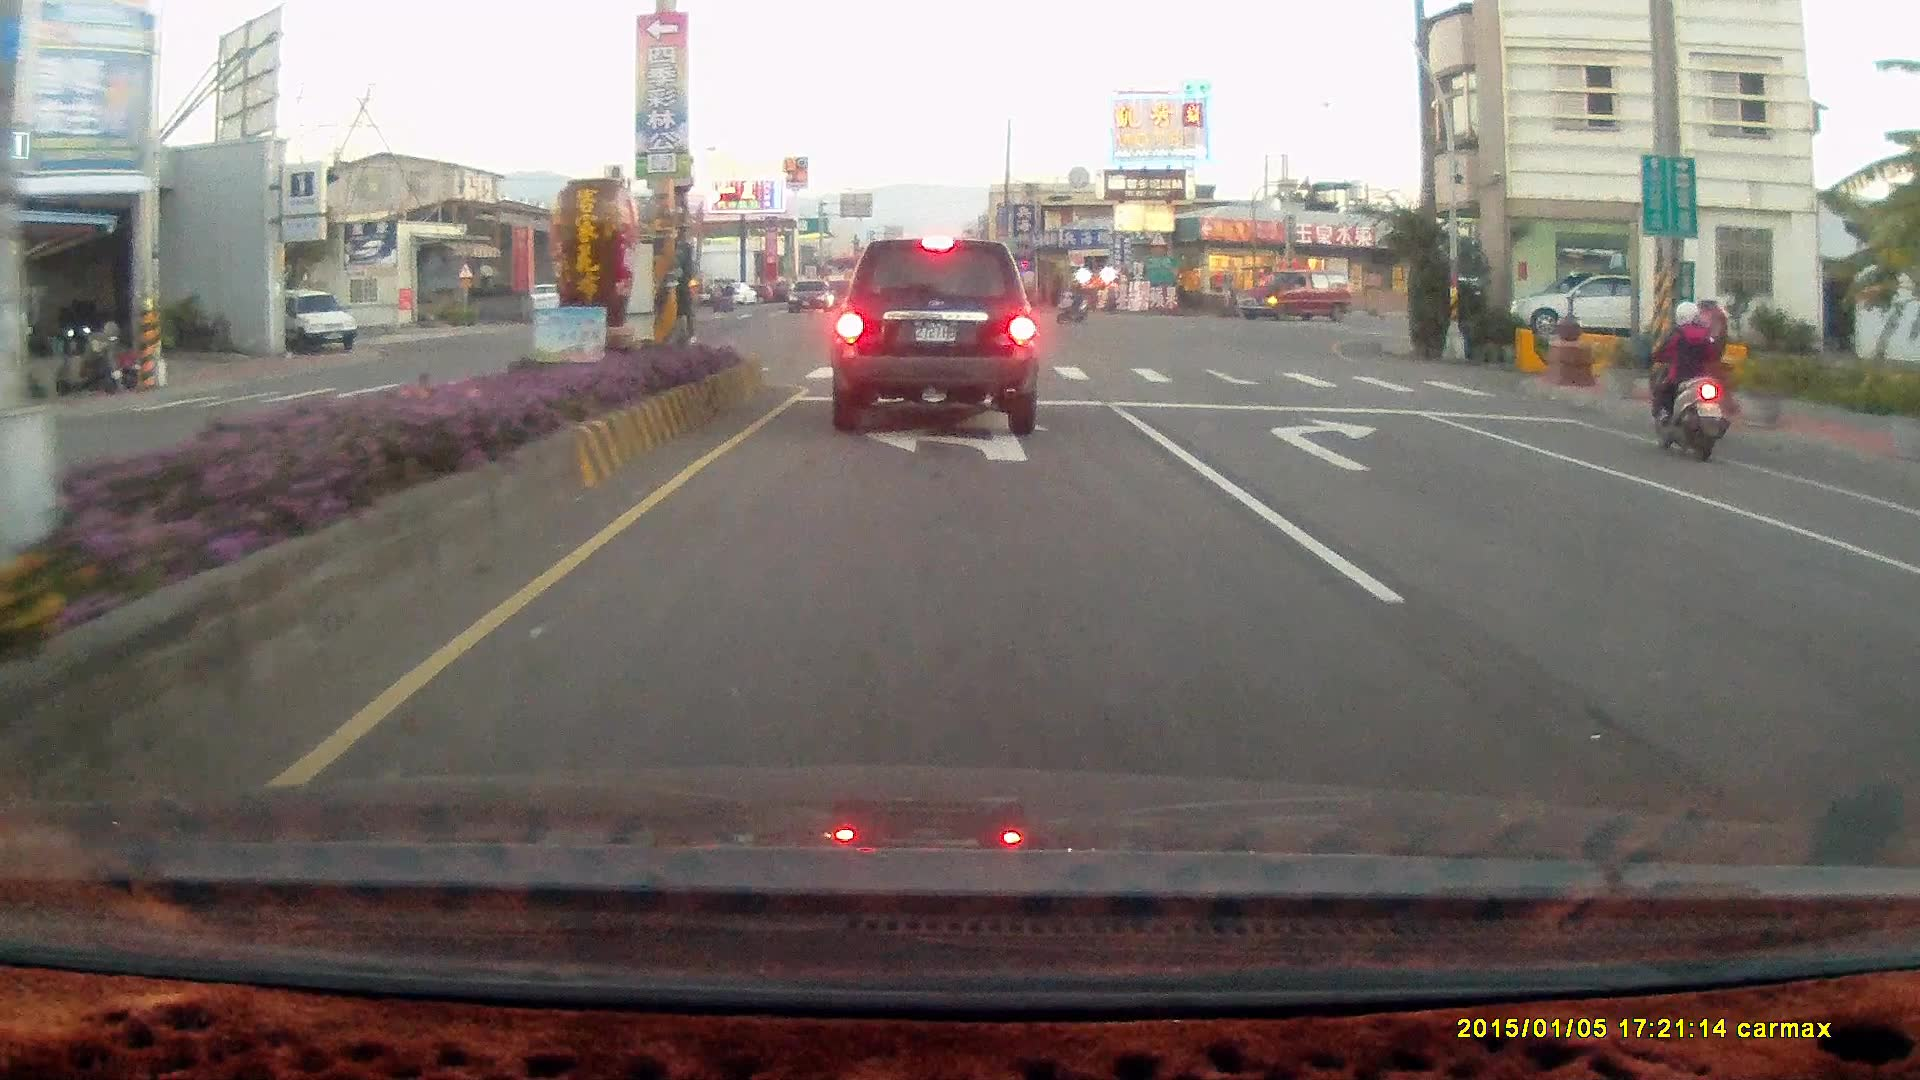rider: (1648, 297, 1727, 462), (1052, 273, 1089, 327)
vehicle: (829, 236, 1041, 433), (1507, 267, 1677, 336), (1896, 493, 1920, 836), (1523, 273, 1647, 337), (265, 284, 360, 351), (1883, 528, 1920, 690), (1236, 268, 1351, 319), (1239, 268, 1355, 319)
